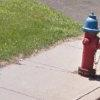Hydrant: (66, 5, 100, 86)
